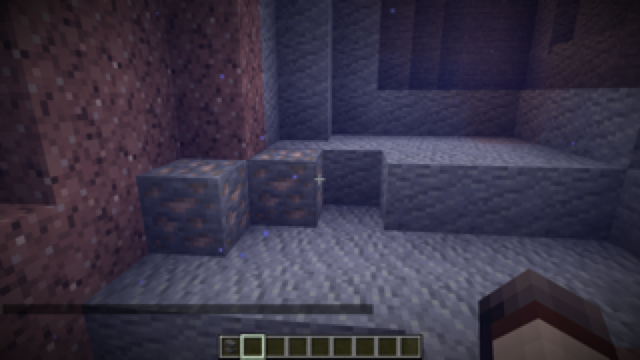iron: (137, 147, 323, 256)
